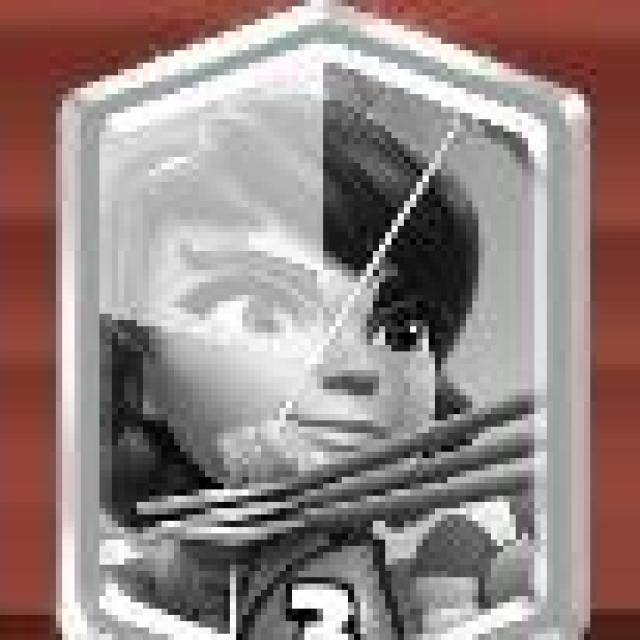Princess: (66, 8, 588, 640)
